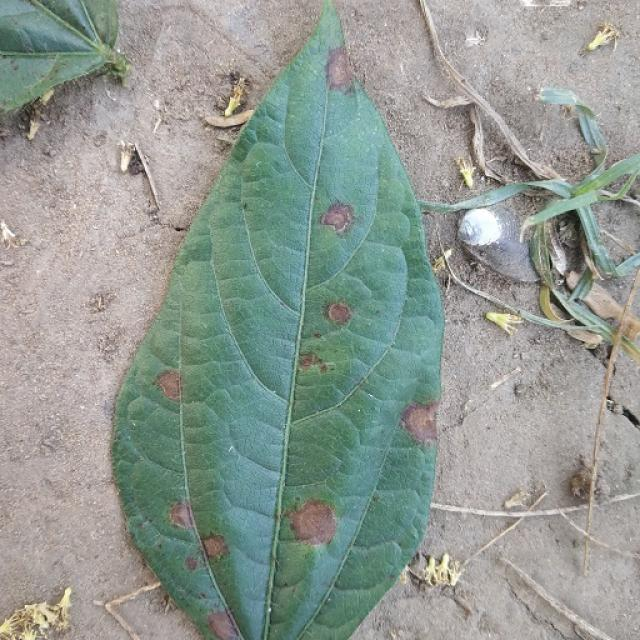Anthracnose: (165, 496, 231, 566), (285, 497, 339, 547), (316, 193, 357, 237), (399, 400, 439, 445), (325, 46, 354, 90), (155, 367, 183, 402), (326, 302, 352, 326), (298, 353, 319, 370)
Blackgram: (114, 5, 442, 639)
